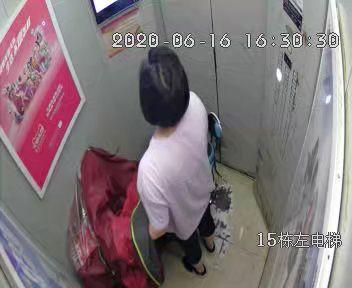Electric-bicycle: (67, 110, 221, 285)
